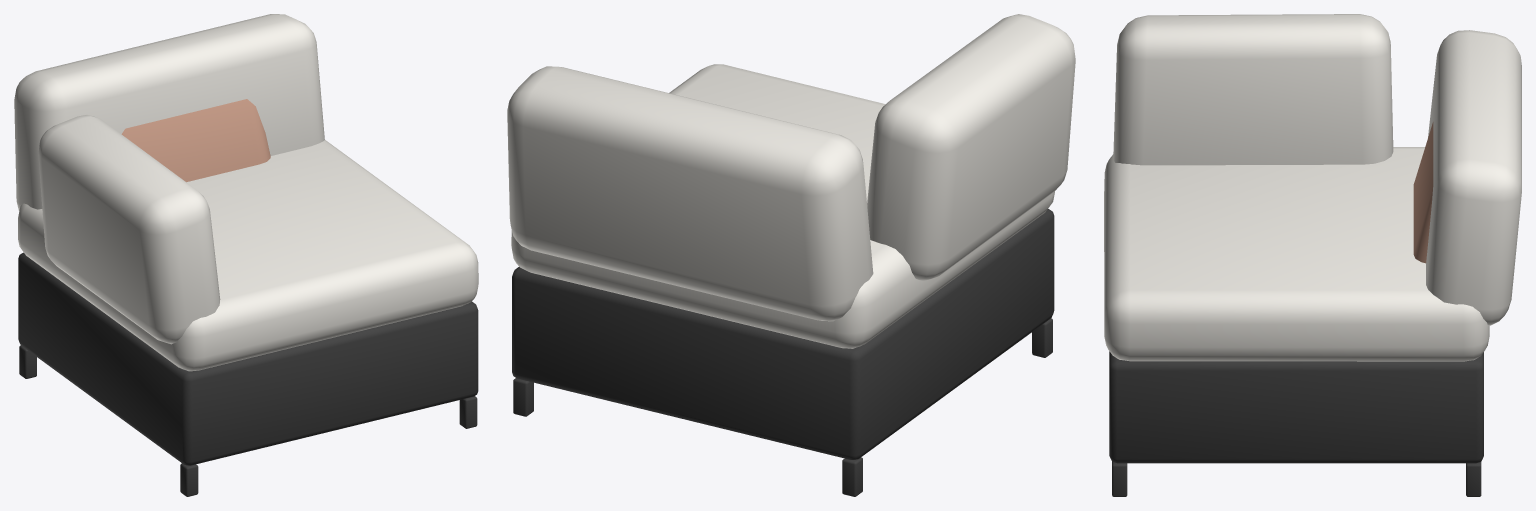
File: lounge_canto.glb
The picture shows the model from 3 angles, left to right: view 1: azimuth 30°, elevation 25°; view 2: azimuth 150°, elevation 25°; view 3: azimuth 270°, elevation 25°; orthographic projection. The views are drawn at different scales.
Visible parts, largest first — view 1: pe.003; view 2: pe.003; view 3: pe.003.
Part boxes in pixels (bbox=[...]): pe.003: bbox=[14, 14, 478, 496]; pe.003: bbox=[507, 14, 1075, 496]; pe.003: bbox=[1104, 14, 1521, 496].
Bounding box in the file's own units: 0.8146 × 0.6963 × 0.8144.
